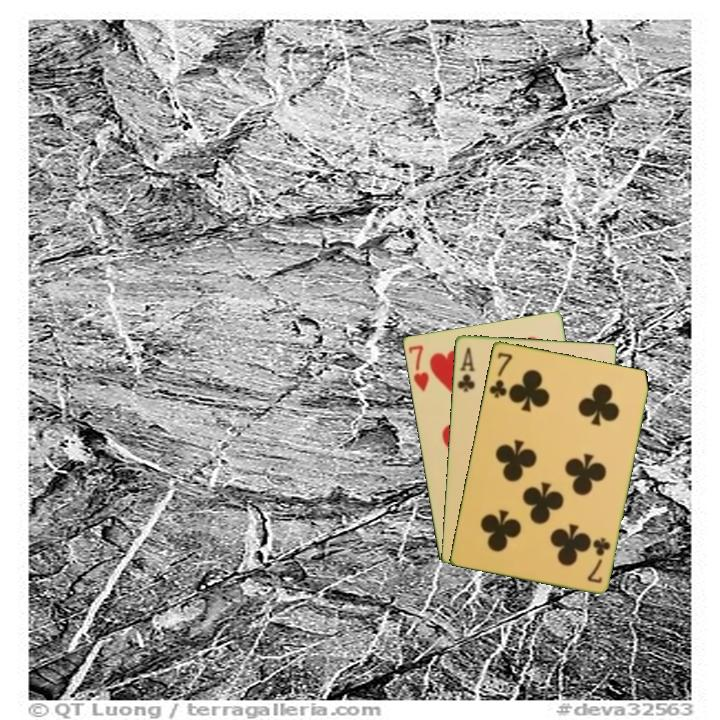7c: (485, 348, 515, 401), (583, 533, 613, 586)
7h: (404, 341, 431, 394)
Ac: (454, 343, 477, 394)
